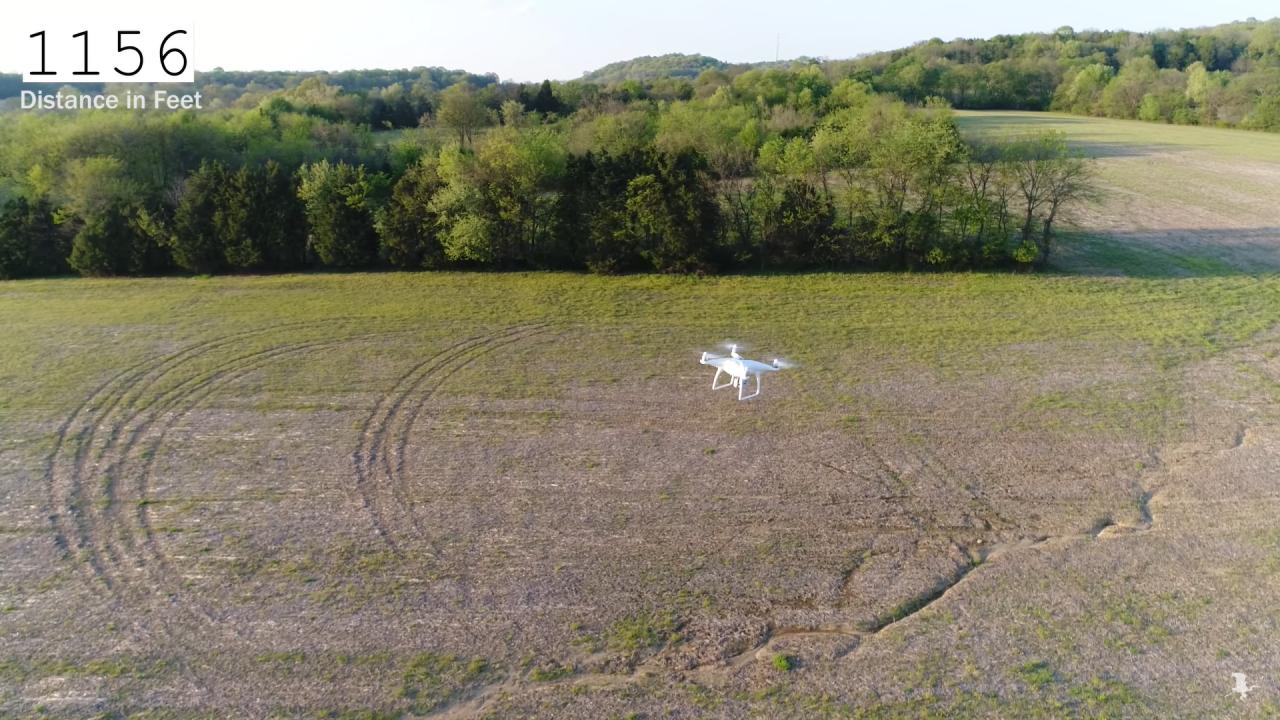Drone: (681, 332, 806, 409)
